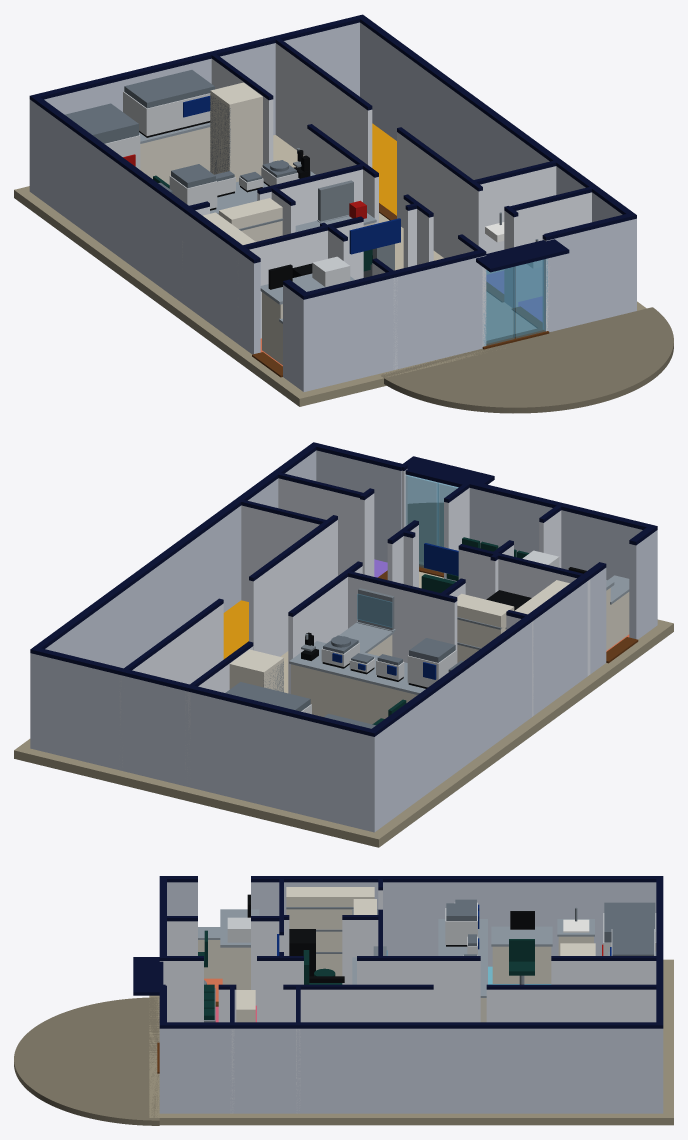
Rendered from diagnostic-lab-plan-b.obj.
3 views of the same model, one above another, from view 1: azimuth 30°, elevation 25°; view 2: azimuth 150°, elevation 25°; view 3: azimuth 270°, elevation 25° (orthographic). The views are drawn at different scales.
Parts seen in each view (by area): view 1: wall_west_1, entrance_apron, wall_south_1, wall_east_1, wall_south_2, wall_north_1, site_slab, part_spine_east_1, part_spine_east_2, sample_fridge, part_wash_mid_1, wall_east_1_cap (+38 smaller); view 2: wall_north_1, wall_west_1, wall_east_1, site_slab, wall_south_1, part_spine_east_2, part_lab_south_2, bench_south_carcass, wall_south_2, part_spine_east_1, part_service_south_1, part_wash_mid_1 (+34 smaller); view 3: wall_east_1, entrance_apron, wall_west_1, site_slab, part_spine_east_1, part_spine_east_2, part_lab_east_2, storage_rack_a, wall_east_1_cap, wall_west_1_cap, part_lab_east_1, part_spine_west_3 (+34 smaller).
Part boxes in pixels (x1=…): wall_west_1: x1=29, y1=100, x2=260, y2=354; entrance_apron: x1=381, y1=307, x2=673, y2=413; wall_south_1: x1=300, y1=256, x2=482, y2=391; wall_east_1: x1=360, y1=22, x2=636, y2=312; wall_south_2: x1=548, y1=218, x2=636, y2=332; wall_north_1: x1=29, y1=22, x2=359, y2=193; site_slab: x1=14, y1=186, x2=646, y2=406; part_spine_east_1: x1=275, y1=43, x2=372, y2=167; part_spine_east_2: x1=397, y1=132, x2=482, y2=258; sample_fridge: x1=210, y1=82, x2=262, y2=181; part_wash_mid_1: x1=516, y1=192, x2=591, y2=301; wall_east_1_cap: x1=359, y1=15, x2=636, y2=219; wall_north_1: x1=30, y1=653, x2=378, y2=832; wall_west_1: x1=368, y1=568, x2=606, y2=831; wall_east_1: x1=30, y1=451, x2=316, y2=748; site_slab: x1=14, y1=561, x2=673, y2=847; wall_south_1: x1=469, y1=488, x2=657, y2=627; part_spine_east_2: x1=249, y1=520, x2=337, y2=656; part_lab_south_2: x1=348, y1=577, x2=457, y2=662; bench_south_carcass: x1=291, y1=664, x2=417, y2=724; wall_south_2: x1=316, y1=450, x2=401, y2=562; part_spine_east_1: x1=119, y1=603, x2=223, y2=770; part_service_south_1: x1=458, y1=549, x2=590, y2=675; part_wash_mid_1: x1=278, y1=478, x2=359, y2=575; wall_east_1: x1=159, y1=1028, x2=662, y2=1113; entrance_apron: x1=14, y1=997, x2=159, y2=1125; wall_west_1: x1=251, y1=882, x2=656, y2=966; site_slab: x1=149, y1=959, x2=673, y2=1125; part_spine_east_1: x1=486, y1=989, x2=656, y2=1022; part_spine_east_2: x1=283, y1=989, x2=433, y2=1022; part_lab_east_2: x1=380, y1=961, x2=480, y2=1022; storage_rack_a: x1=286, y1=887, x2=374, y2=976; wall_east_1_cap: x1=159, y1=1022, x2=663, y2=1028; wall_west_1_cap: x1=251, y1=876, x2=663, y2=882; part_lab_east_1: x1=551, y1=961, x2=656, y2=984; part_spine_west_3: x1=159, y1=961, x2=203, y2=1022.
Bounding box in the file's own units: 6.46 × 1.79 × 11.2.
